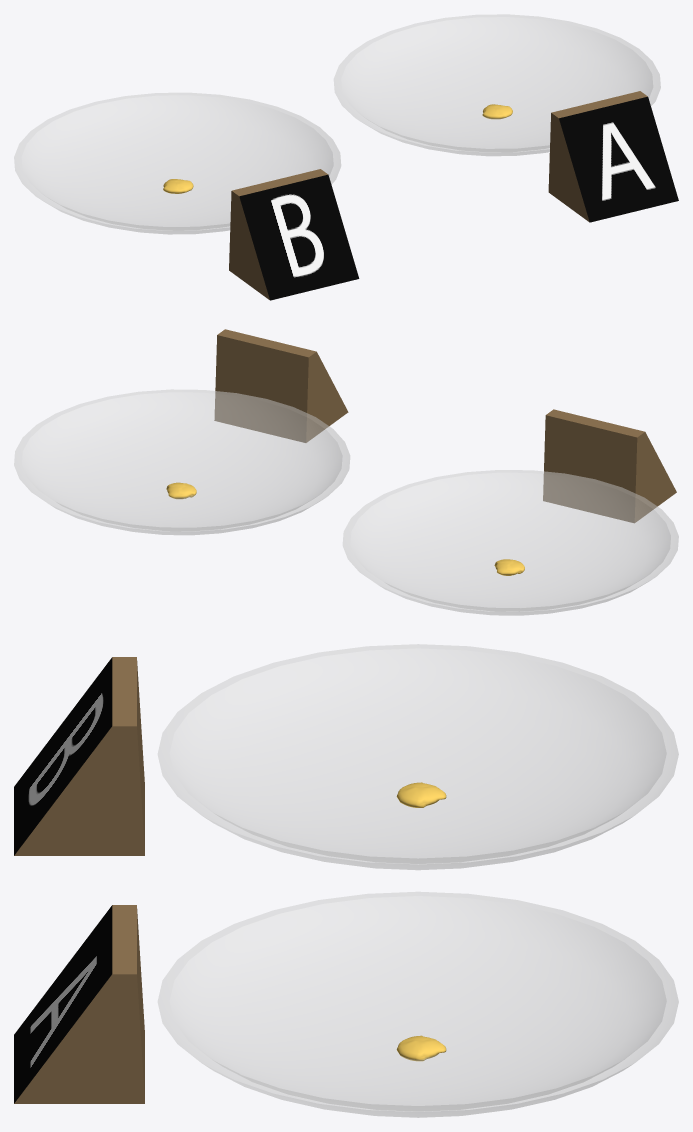
The model's file is Sample A _ B.fbx.
The picture shows the model from 3 angles, top to bottom: view 1: azimuth 30°, elevation 25°; view 2: azimuth 150°, elevation 25°; view 3: azimuth 270°, elevation 25°; orthographic projection. The views are drawn at different scales.
Visible parts, largest first — view 1: Sphere.003, Sphere.005, Cube.002, Cube.003; view 2: Sphere.003, Sphere.005, Cube.003, Cube.002; view 3: Sphere.003, Sphere.005, Cube.002, Cube.003, Sphere.006, Sphere.004.
Boxes of the visible parts, <box> form: Sphere.003: <box>333,14,660,156</box>; Sphere.005: <box>14,92,341,234</box>; Cube.002: <box>548,91,678,222</box>; Cube.003: <box>229,169,359,300</box>; Sphere.003: <box>14,389,350,535</box>; Sphere.005: <box>342,470,678,615</box>; Cube.003: <box>543,409,676,523</box>; Cube.002: <box>214,329,348,442</box>; Sphere.003: <box>157,891,678,1117</box>; Sphere.005: <box>157,644,678,870</box>; Cube.002: <box>14,905,144,1103</box>; Cube.003: <box>14,657,144,855</box>; Sphere.006: <box>396,782,446,807</box>; Sphere.004: <box>396,1035,446,1061</box>.
Bounding box in the file's own units: 18.35 × 2.37 × 11.01.
5 materials, 2 textured.
